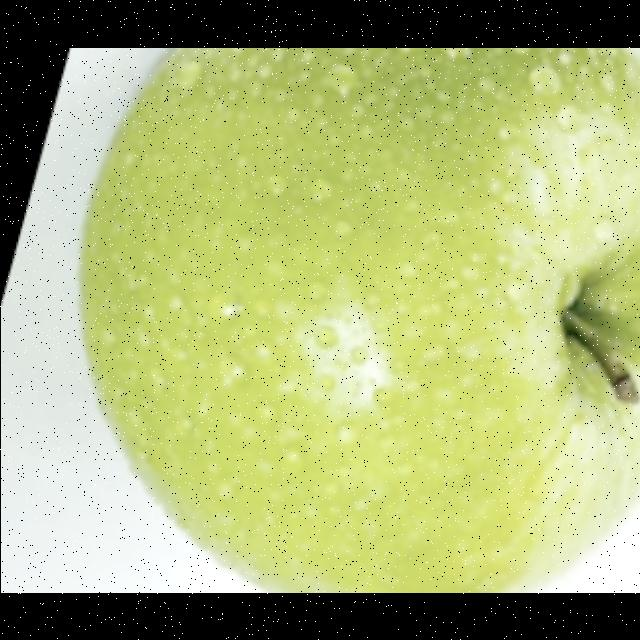Apel Segar: (82, 48, 640, 592)
